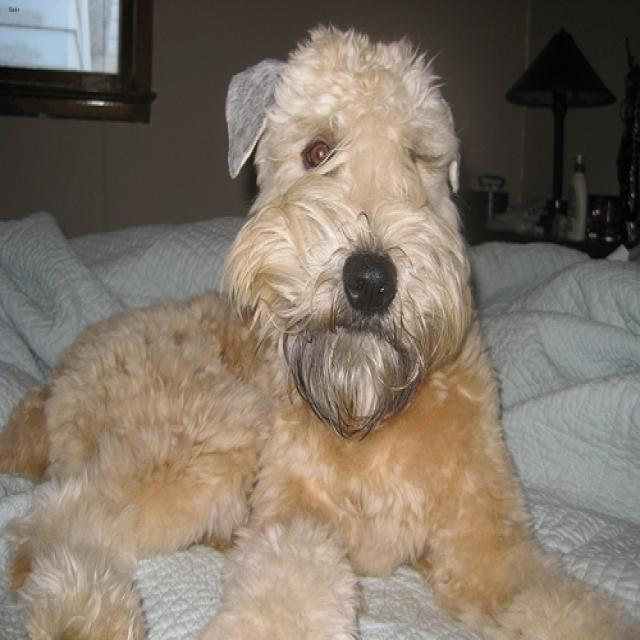dog-wheaten_terrier: (1, 19, 637, 637)
